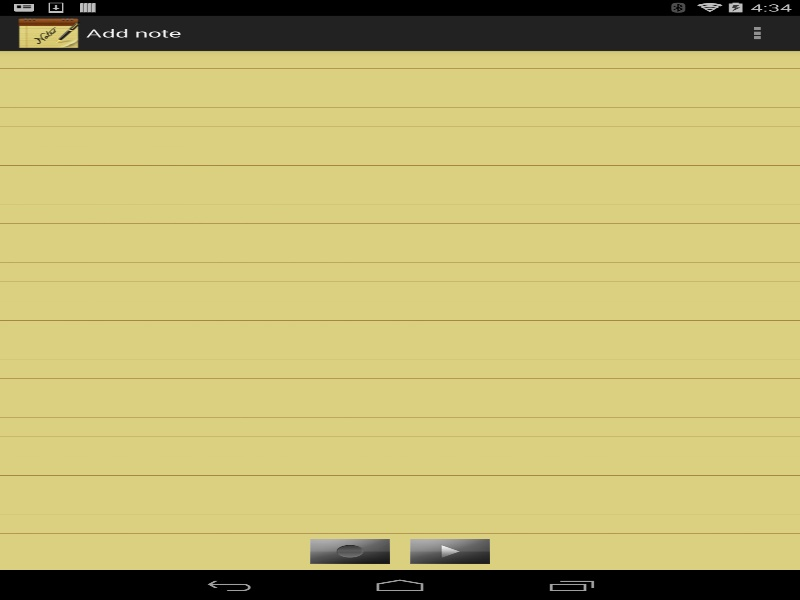Button: (714, 15, 800, 50), (409, 538, 490, 563), (310, 538, 390, 563)
Input: (0, 50, 800, 570)
